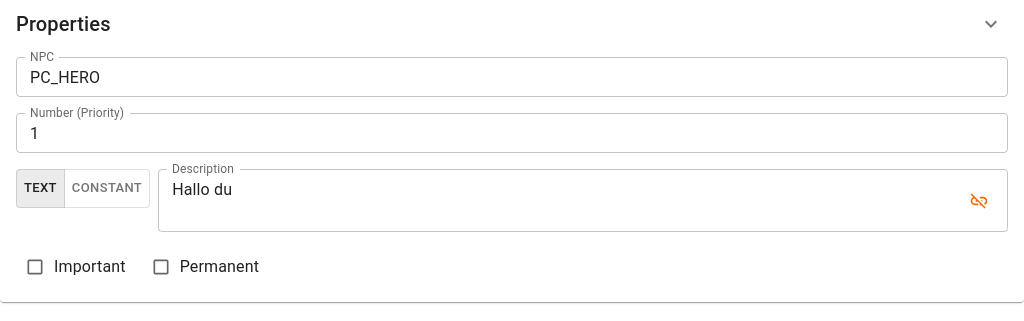
Test case: DialogPropertiesSection › Number (Priority) › leaving an emptied field shows the number the dialog has
This screenshot has width=1024, height=321.
Clear the number field labelled "Number (Priority)" at (512, 133), box [16,113,1008,153]
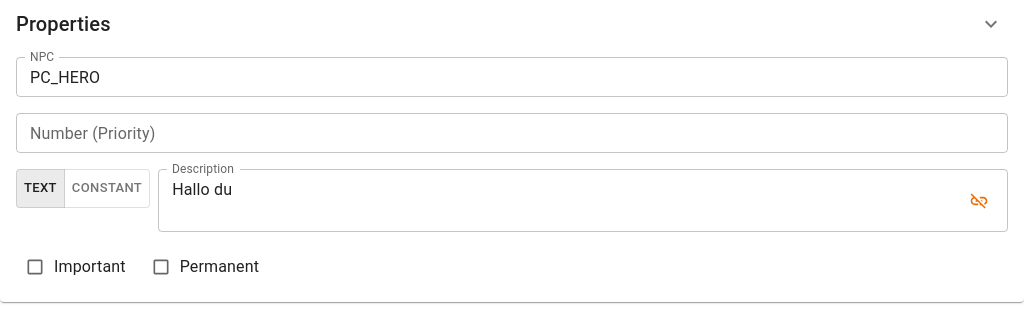
Leave the number field labelled "Number (Priority)", box [16,113,1008,153]
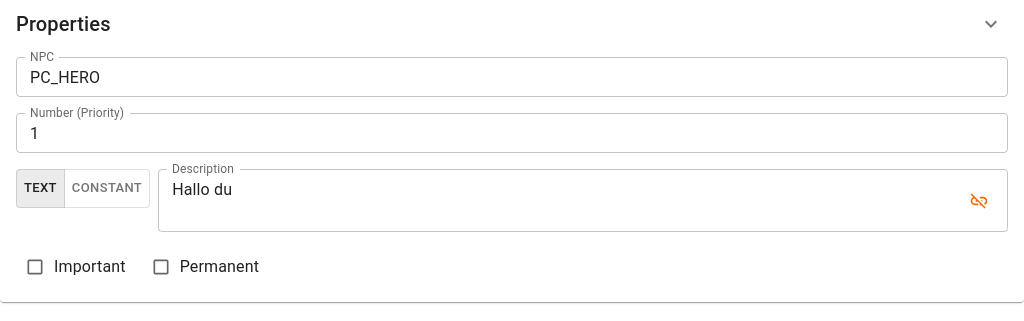
Expected: the number field labelled "Number (Priority)" holds "1", [16,113,1008,153]
